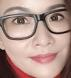without_mask: (1, 2, 71, 78)
